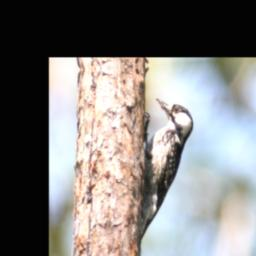Woodpecker: (136, 94, 198, 248)
